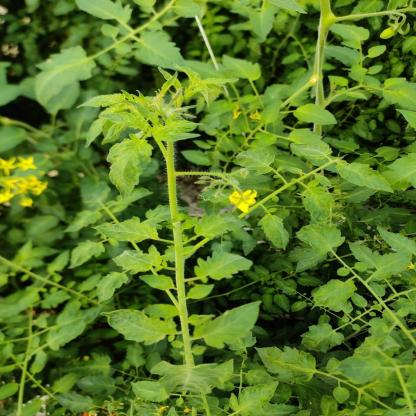T_L_H: (96, 221, 170, 243), (141, 274, 183, 292)
T_L_R: (109, 135, 154, 196), (107, 311, 178, 346), (114, 246, 171, 272)
T_S_H: (158, 142, 195, 368)
